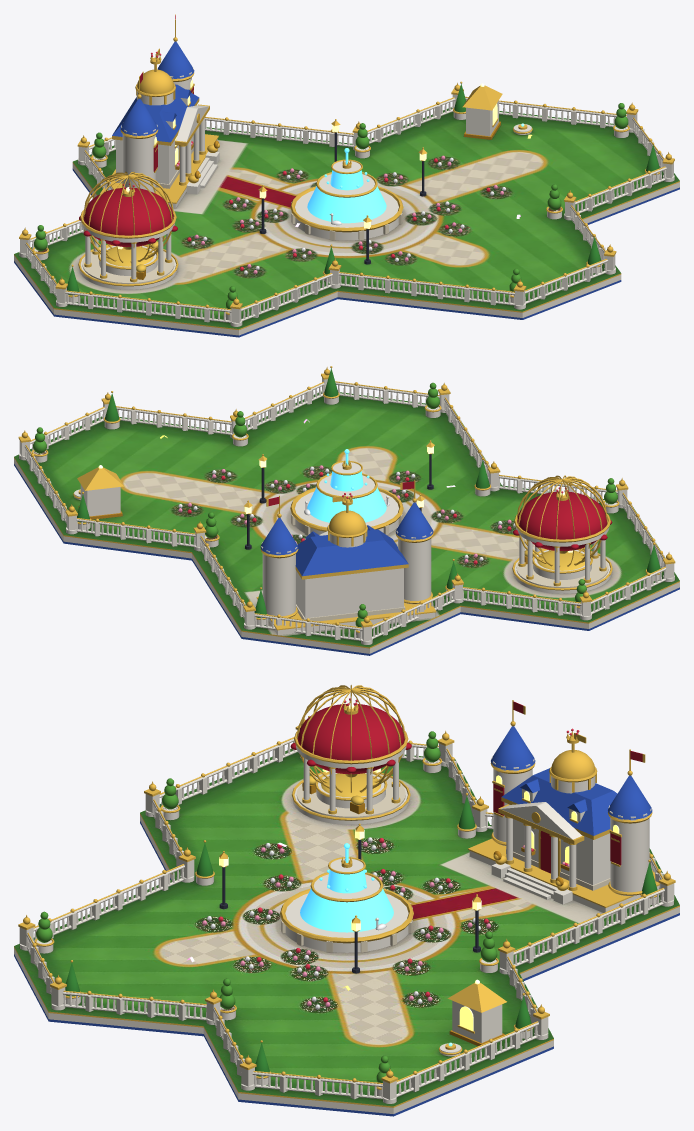
The model's file is field_royal_ranch_01.glb.
3 views of the same model, one above another, from view 1: azimuth 30°, elevation 25°; view 2: azimuth 150°, elevation 25°; view 3: azimuth 270°, elevation 25° (orthographic). The views are drawn at different scales.
Visible parts, largest first — view 1: field_royal_ranch_01-plate, field_royal_ranch_01-marble, field_royal_ranch_01-gold, field_royal_ranch_01-crimson, field_royal_ranch_01-slate-blue, field_royal_ranch_01-rim-joint-e10, field_royal_ranch_01-water, field_royal_ranch_01-rim-joint-e12, field_royal_ranch_01-rim-joint-e3, field_royal_ranch_01-topiary-light, field_royal_ranch_01-rim-joint-e5, field_royal_ranch_01-rim-joint-e7 (+14 smaller); view 2: field_royal_ranch_01-plate, field_royal_ranch_01-marble, field_royal_ranch_01-gold, field_royal_ranch_01-slate-blue, field_royal_ranch_01-crimson, field_royal_ranch_01-water, field_royal_ranch_01-rim-joint-e0, field_royal_ranch_01-rim-joint-e4, field_royal_ranch_01-topiary-light, field_royal_ranch_01-cream, field_royal_ranch_01-rim-joint-e7, field_royal_ranch_01-rim-joint-e1 (+12 smaller); view 3: field_royal_ranch_01-plate, field_royal_ranch_01-marble, field_royal_ranch_01-gold, field_royal_ranch_01-crimson, field_royal_ranch_01-slate-blue, field_royal_ranch_01-water, field_royal_ranch_01-rim-joint-e5, field_royal_ranch_01-rim-joint-e3, field_royal_ranch_01-rim-joint-e10, field_royal_ranch_01-rim-joint-e8, field_royal_ranch_01-rim-joint-e12, field_royal_ranch_01-cream (+13 smaller).
Boxes of the visible parts, box(x1,y1,x2,y2) form: field_royal_ranch_01-plate: box(14, 107, 679, 337); field_royal_ranch_01-marble: box(34, 67, 659, 320); field_royal_ranch_01-gold: box(32, 19, 659, 314); field_royal_ranch_01-crimson: box(79, 87, 193, 247); field_royal_ranch_01-slate-blue: box(112, 41, 199, 142); field_royal_ranch_01-rim-joint-e10: box(329, 259, 525, 309); field_royal_ranch_01-water: box(307, 170, 386, 223); field_royal_ranch_01-rim-joint-e12: box(55, 277, 242, 326); field_royal_ranch_01-rim-joint-e3: box(205, 116, 360, 150); field_royal_ranch_01-topiary-light: box(34, 103, 628, 308); field_royal_ranch_01-rim-joint-e5: box(451, 83, 637, 132); field_royal_ranch_01-rim-joint-e7: box(564, 152, 674, 220); field_royal_ranch_01-plate: box(14, 391, 679, 655); field_royal_ranch_01-marble: box(33, 397, 659, 638); field_royal_ranch_01-gold: box(31, 366, 661, 632); field_royal_ranch_01-slate-blue: box(260, 502, 433, 576); field_royal_ranch_01-crimson: box(513, 491, 612, 551); field_royal_ranch_01-water: box(307, 471, 386, 522); field_royal_ranch_01-rim-joint-e0: box(451, 574, 592, 619); field_royal_ranch_01-rim-joint-e4: box(66, 505, 205, 551); field_royal_ranch_01-topiary-light: box(33, 382, 617, 627); field_royal_ranch_01-cream: box(291, 503, 608, 621); field_royal_ranch_01-rim-joint-e7: box(102, 393, 237, 437); field_royal_ranch_01-rim-joint-e1: box(361, 573, 463, 644); field_royal_ranch_01-plate: box(14, 748, 679, 1116); field_royal_ranch_01-marble: box(36, 746, 659, 1096); field_royal_ranch_01-gold: box(34, 685, 671, 1089); field_royal_ranch_01-crimson: box(290, 703, 621, 873); field_royal_ranch_01-slate-blue: box(491, 726, 652, 835); field_royal_ranch_01-water: box(300, 869, 393, 932); field_royal_ranch_01-rim-joint-e5: box(382, 1006, 549, 1103); field_royal_ranch_01-rim-joint-e3: box(498, 871, 675, 974); field_royal_ranch_01-rim-joint-e10: box(19, 847, 195, 950); field_royal_ranch_01-rim-joint-e8: box(51, 975, 221, 1024); field_royal_ranch_01-rim-joint-e12: box(144, 720, 305, 816); field_royal_ranch_01-cream: box(281, 773, 610, 952).
Bounding box in the file's own units: 19.13 × 3.85 × 14.89.
Materials: 25 (1 with a texture image).
